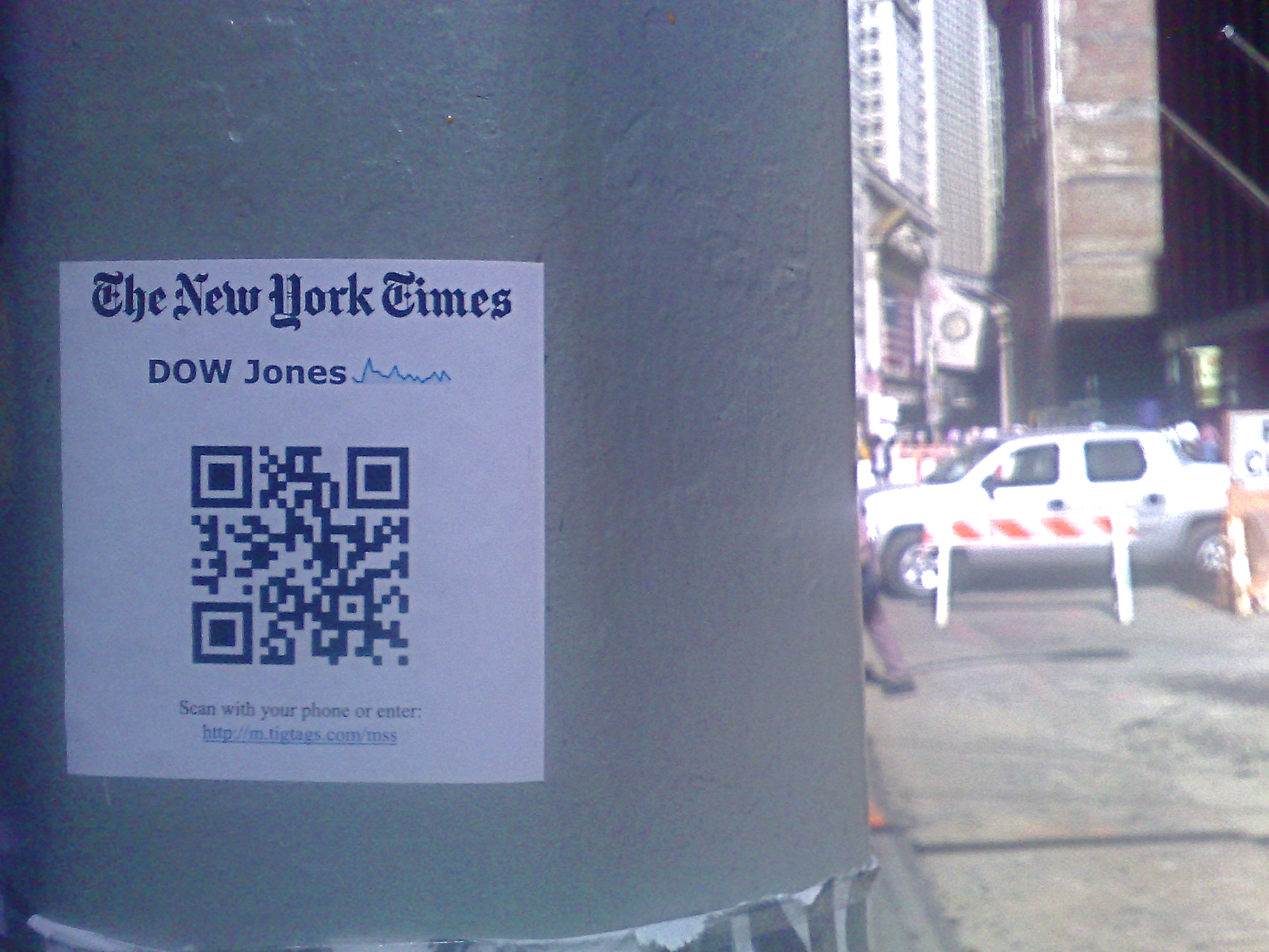QR-CODE: (191, 446, 408, 665)
